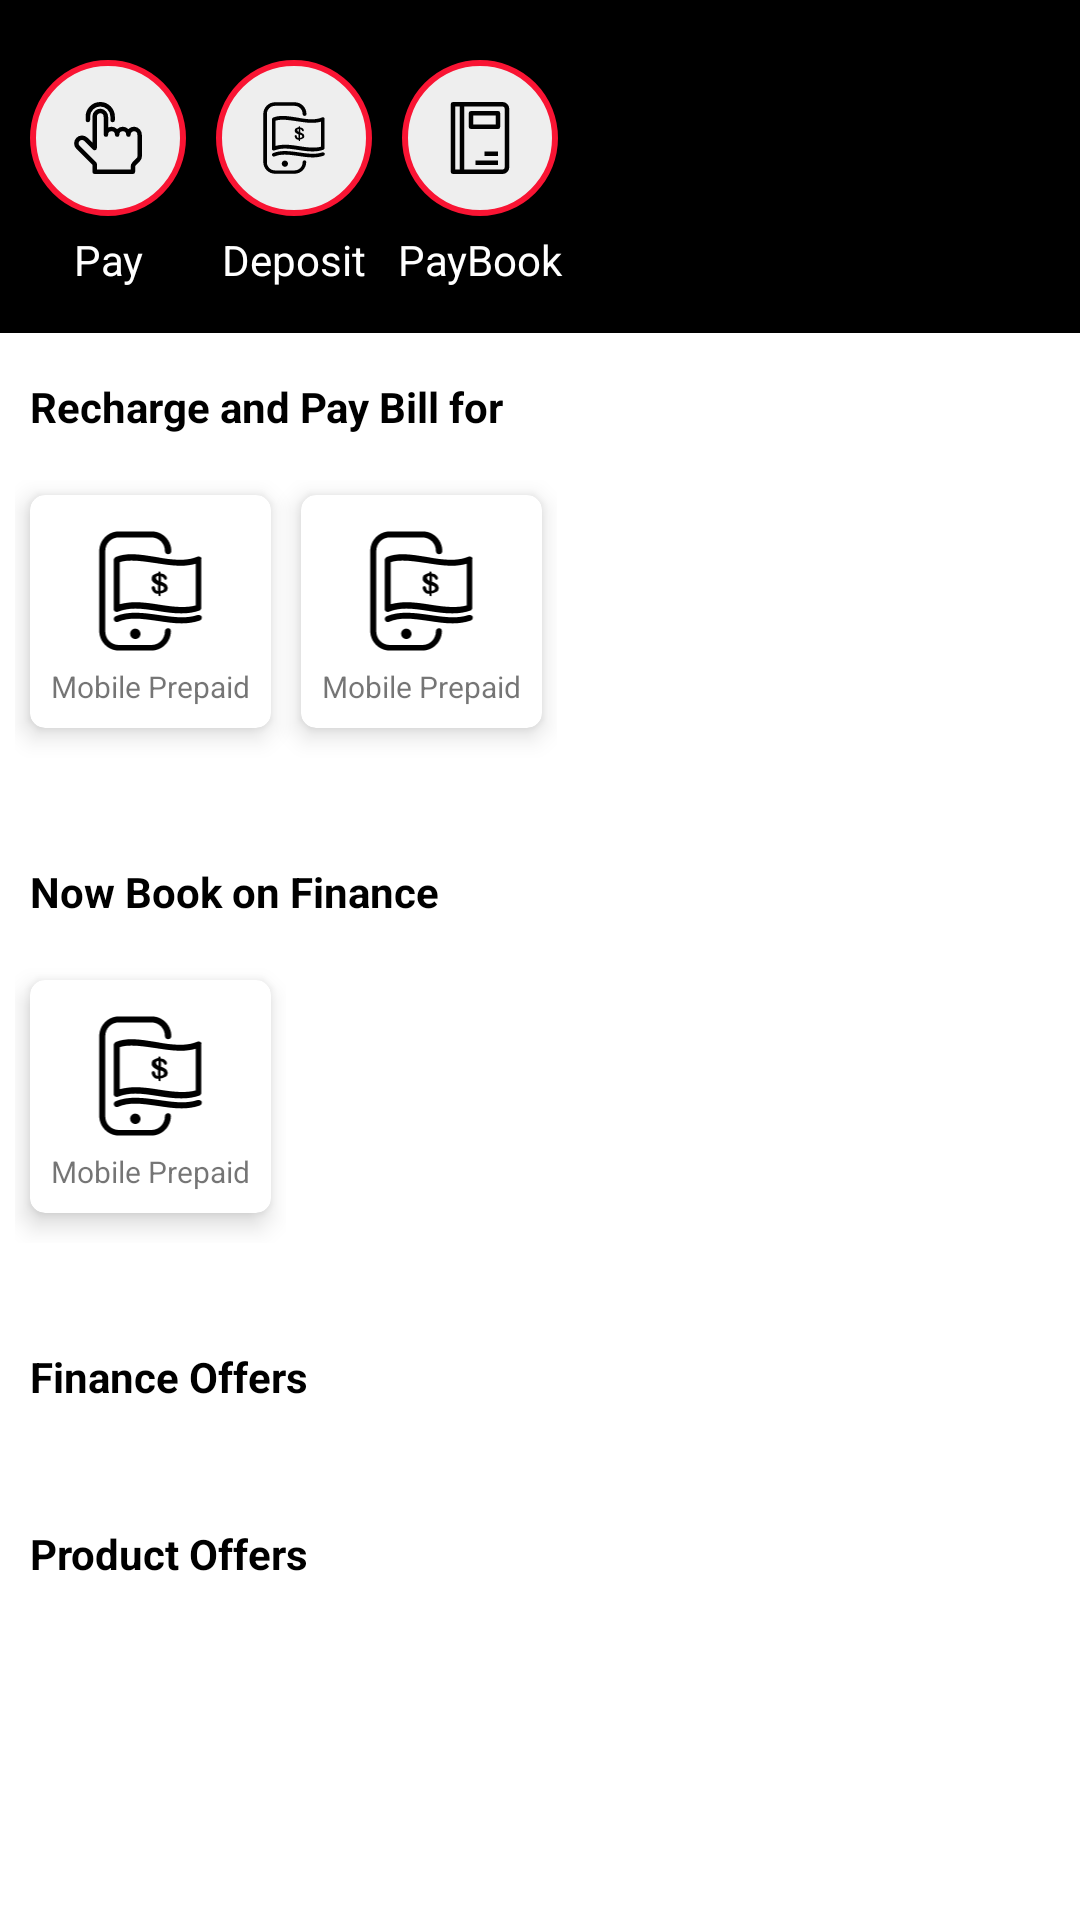

Where to tap for icons on this 1080x1920 app screen, as [x,y]:
mobile money: [294,138], [150,591], [421,591], [150,1076]
